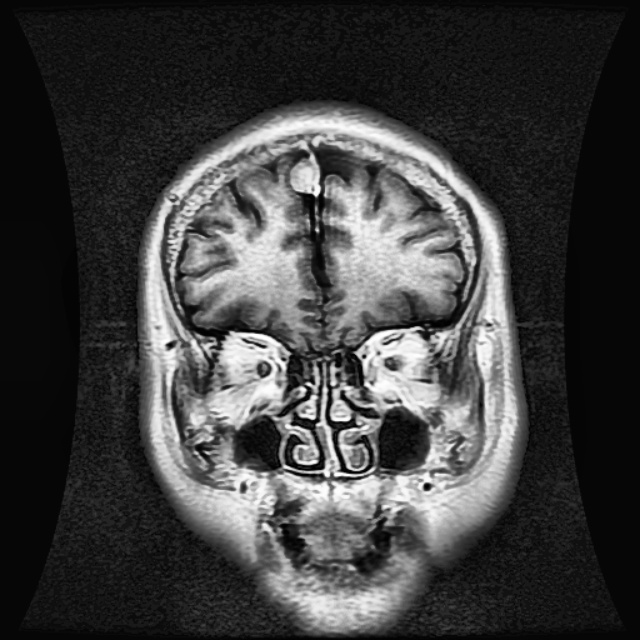Glioma: (290, 158, 320, 194)
